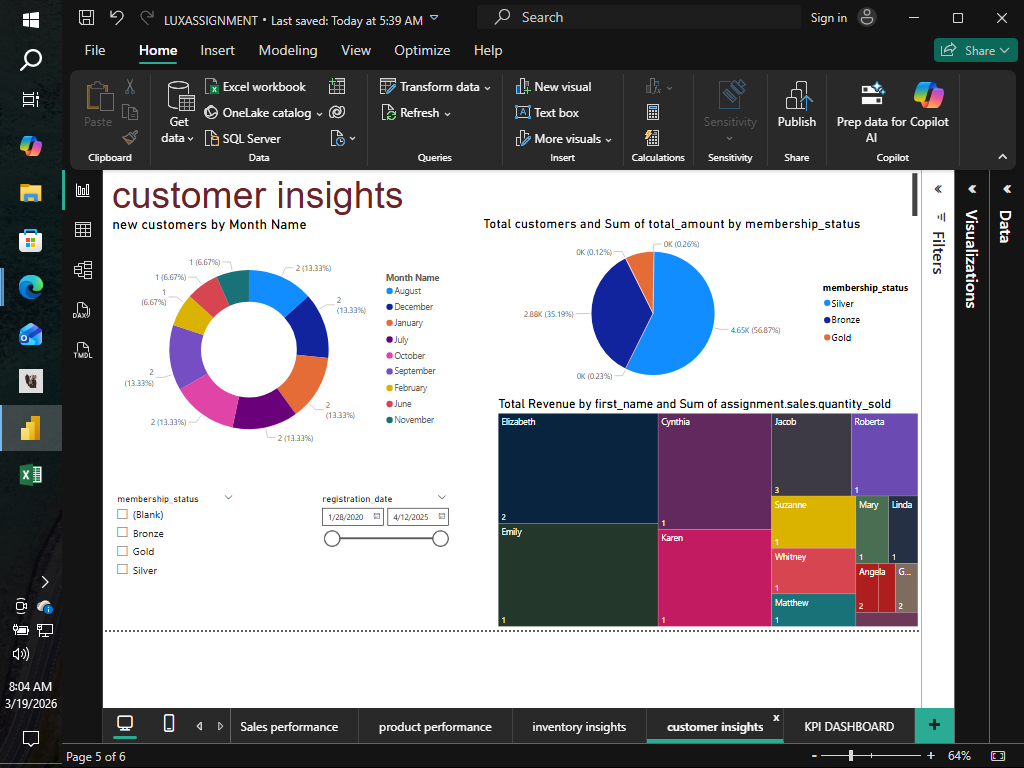

This screenshot's page, from the dashboard's own definition file:
{"tool":"powerbi","page":{"name":"customer insights","canvas":[1280,720],"ordinal":4},"visuals":[{"type":"textbox","box":[9.5,0,1270.5,87.6],"z":0},{"type":"donutChart","fields":{"Category":["Dim Date.Month Name"],"Y":["Dim customers.new customers"]},"box":[9.5,72.4,539,394.3],"z":1000},{"type":"pieChart","fields":{"Category":["Dim customers.membership_status"],"Y":["Dim customers.Total customers","Sum(Dim customers.total_amount)"]},"box":[590.5,72.4,689.5,281.9],"z":2000},{"type":"treemap","fields":{"Group":["Dim customers.first_name"],"Details":["Dim products.Sum of assignment.sales.quantity_sold"],"Values":["Dim products.Total Revenue"]},"box":[613.3,354.3,666.7,365.7],"z":3000},{"type":"slicer","fields":{"Values":["Dim customers.membership_status"]},"box":[9.5,501,205.7,219],"z":3001},{"type":"slicer","fields":{"Values":["Dim customers.registration_date"]},"box":[329.5,501,219,219],"z":3002}]}

Visuals, with their boxes on the page's 1280x720 design canvas (x1, y1, x2, y2). These are canvas units, not pixel positions in the 1024x768 screenshot, which may show the page scaled, cropped or inside an application window:
textbox: 10 0 1280 88
donutChart - Dim Date.Month Name x Dim customers.new customers: 10 72 548 467
pieChart - Dim customers.membership_status x Dim customers.Total customers: 590 72 1280 354
treemap - Dim customers.first_name x Dim products.Sum of assignment.sales.quantity_sold: 613 354 1280 720
slicer - Dim customers.membership_status: 10 501 215 720
slicer - Dim customers.registration_date: 330 501 548 720
